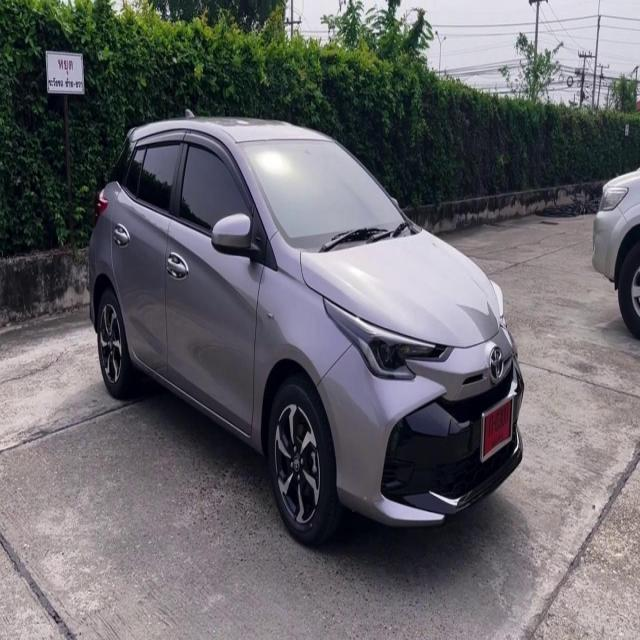Hatchback: (90, 111, 524, 547)
